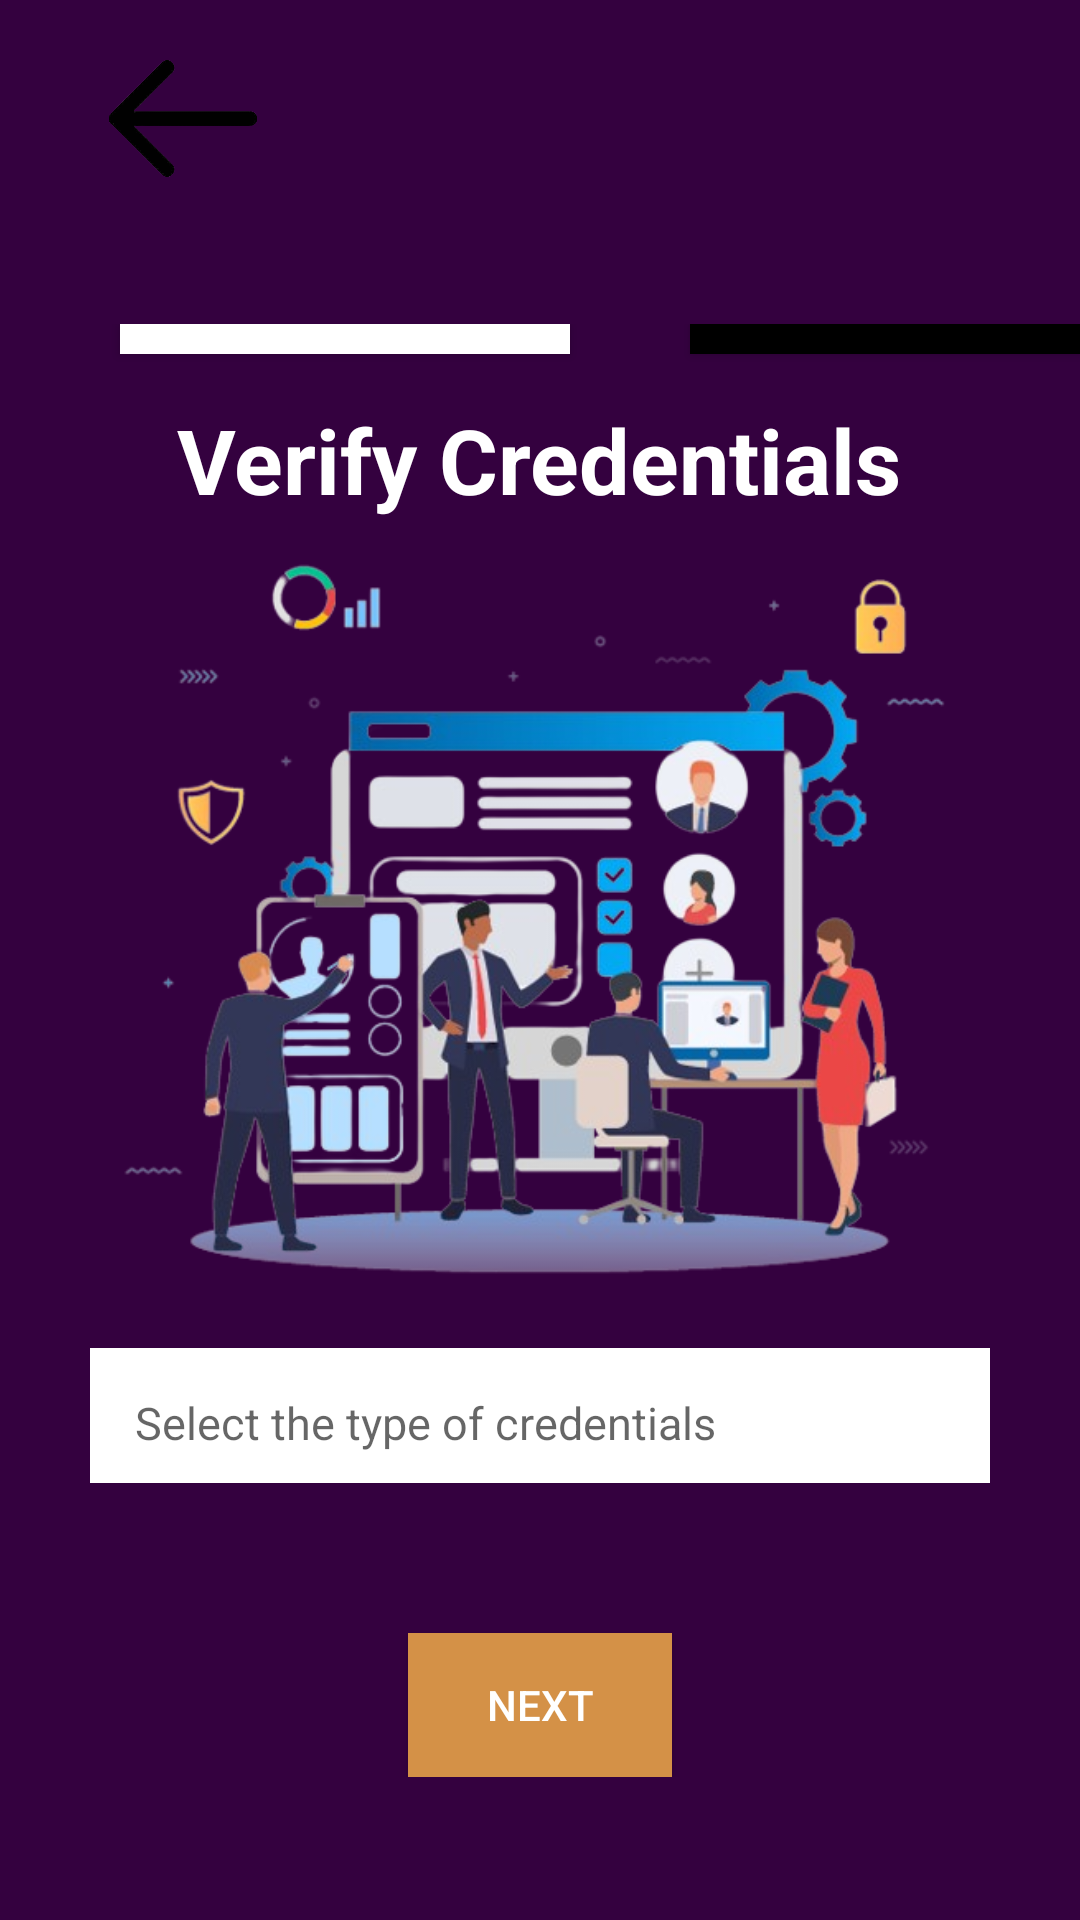

Icon bounding boxes for this 1080px x 1920px phone screenshot, format [x1,y1,x2,y2]:
backarrow: [109,60,257,177]
